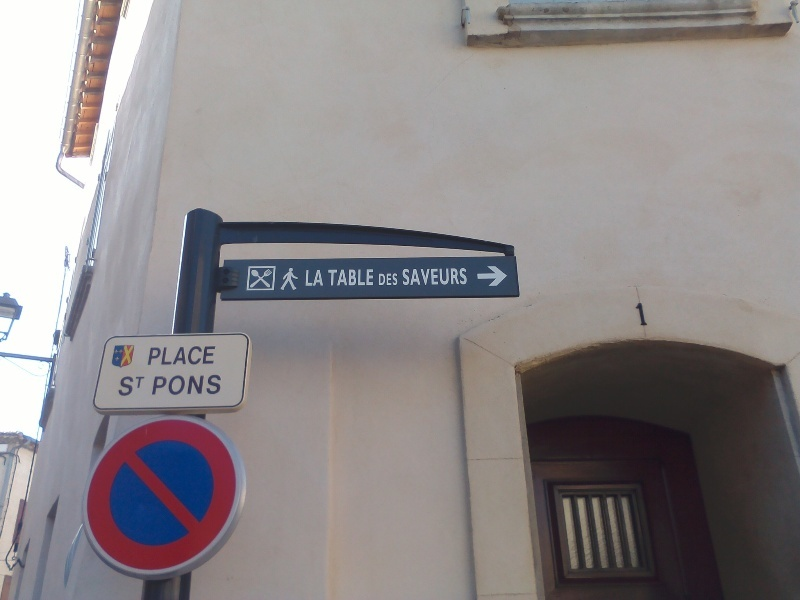text: (641, 299, 653, 331), (629, 299, 640, 331), (161, 374, 176, 397), (177, 374, 192, 397), (193, 374, 208, 397), (161, 345, 176, 367), (177, 345, 192, 367), (193, 345, 208, 367), (209, 374, 223, 397), (129, 376, 144, 397), (417, 266, 432, 286), (433, 266, 448, 286), (449, 266, 464, 286), (402, 266, 416, 286), (337, 269, 352, 287), (353, 269, 368, 287), (306, 270, 320, 287), (150, 345, 160, 367), (385, 273, 399, 286), (209, 345, 217, 367), (327, 269, 336, 287), (154, 374, 160, 397), (122, 376, 128, 397), (369, 269, 375, 287), (378, 273, 384, 286), (465, 266, 468, 286), (321, 270, 324, 287), (145, 376, 146, 397)
